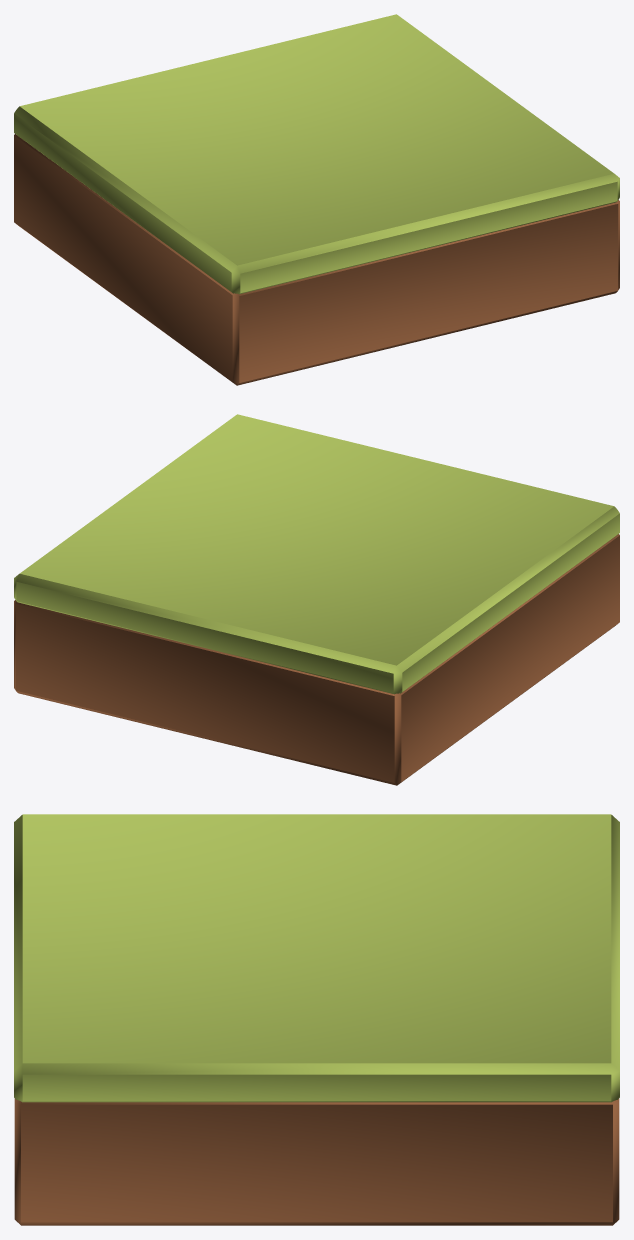
The model's file is tile_grove_flowering.glb.
3 views of the same model, one above another, from view 1: azimuth 30°, elevation 25°; view 2: azimuth 150°, elevation 25°; view 3: azimuth 270°, elevation 25° (orthographic). The views are drawn at different scales.
Visible parts, largest first — view 1: grove_ground_cap, grove_ground_body; view 2: grove_ground_cap, grove_ground_body; view 3: grove_ground_cap, grove_ground_body.
Part boxes in pixels (<box>): grove_ground_cap: <box>14,14,619,294</box>; grove_ground_body: <box>14,134,619,385</box>; grove_ground_cap: <box>14,414,619,694</box>; grove_ground_body: <box>14,534,619,785</box>; grove_ground_cap: <box>14,814,619,1102</box>; grove_ground_body: <box>14,1098,619,1225</box>.
Bounding box in the file's own units: 1.7 × 0.5 × 1.7.
